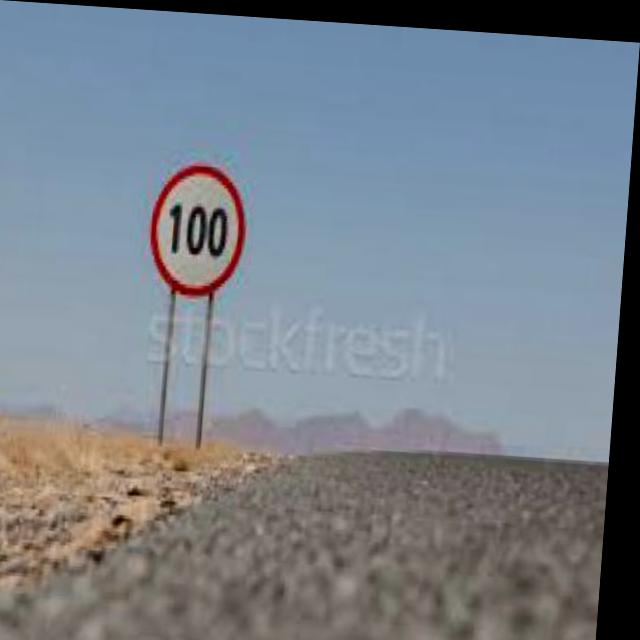limit100: (146, 156, 261, 297)
